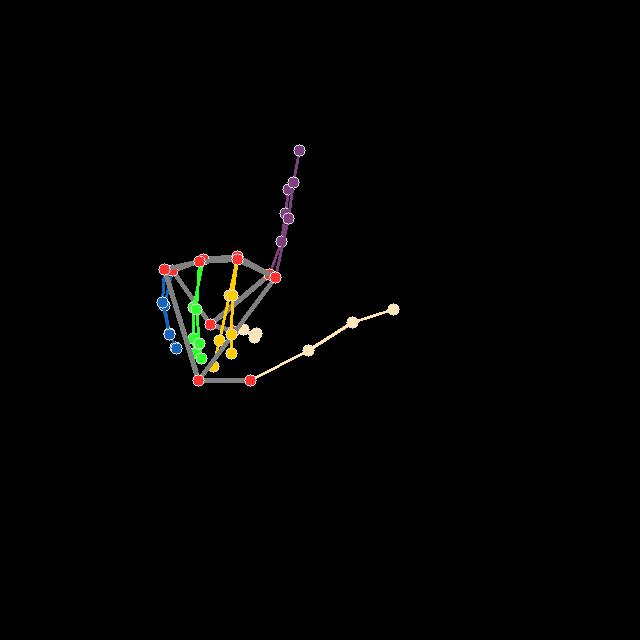gun: (155, 144, 403, 389)
